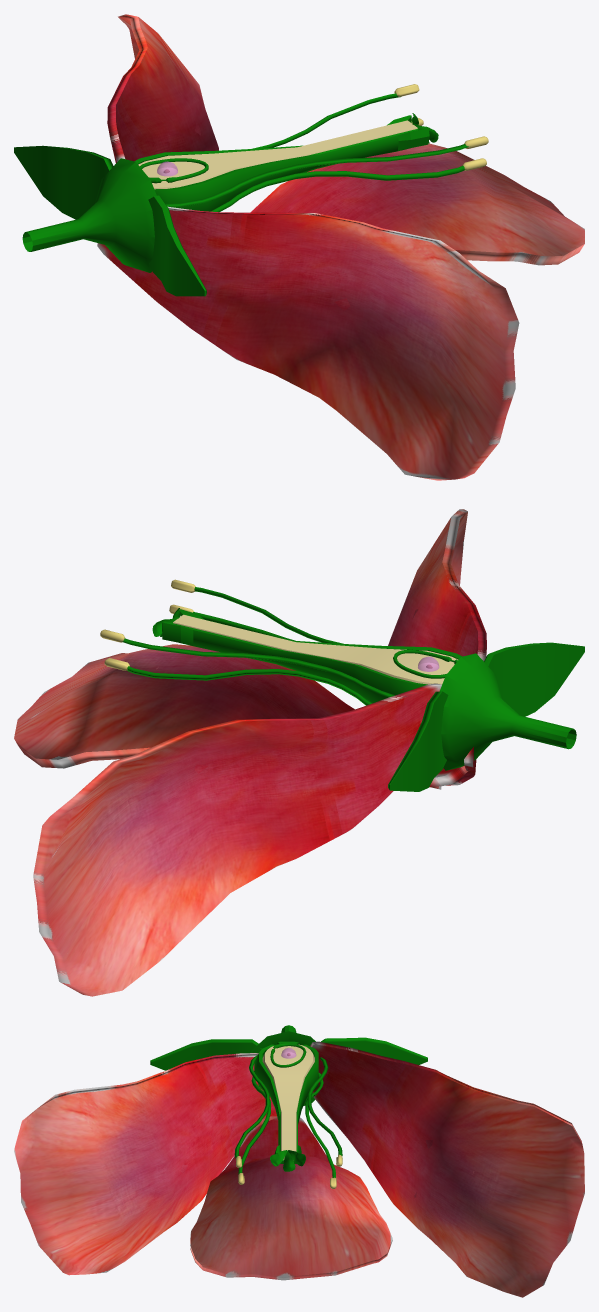
Rendered from flower.fbx.
The picture shows the model from 3 angles, top to bottom: view 1: azimuth 30°, elevation 25°; view 2: azimuth 150°, elevation 25°; view 3: azimuth 270°, elevation 25°; orthographic projection. The views are drawn at different scales.
Visible parts, largest first — view 1: polySurface57, polySurface56, polySurface55, polySurface36, polySurface38, pistil, polySurface43, stamen, polySurface44, polySurface37; view 2: polySurface55, polySurface56, polySurface57, polySurface36, polySurface38, pistil, polySurface44, polySurface43, stamen, polySurface40, polySurface37; view 3: polySurface55, polySurface57, polySurface56, pistil, polySurface44, polySurface38, polySurface43, stamen, polySurface36, polySurface37, polySurface40.
Part boxes in pixels (x1,y1,x2,y2): polySurface57: (97, 206, 519, 480); polySurface56: (250, 143, 584, 265); polySurface55: (107, 14, 218, 162); polySurface36: (22, 158, 156, 272); polySurface38: (134, 115, 429, 211); pistil: (138, 113, 438, 189); polySurface43: (14, 145, 113, 219); stamen: (165, 136, 488, 212); polySurface44: (148, 195, 206, 296); polySurface37: (252, 93, 401, 148); polySurface55: (33, 683, 441, 996); polySurface56: (14, 644, 467, 787); polySurface57: (388, 509, 486, 789); polySurface36: (439, 653, 576, 770); polySurface38: (162, 609, 462, 703); pistil: (152, 608, 458, 684); polySurface44: (484, 642, 584, 716); polySurface43: (388, 691, 448, 791); stamen: (169, 579, 343, 643); polySurface40: (127, 666, 371, 705); polySurface37: (122, 638, 395, 697); polySurface55: (310, 1041, 584, 1297); polySurface57: (14, 1053, 276, 1275); polySurface56: (190, 1116, 392, 1280); pistil: (262, 1044, 314, 1171); polySurface44: (150, 1039, 261, 1070); polySurface38: (254, 1044, 318, 1163); polySurface43: (321, 1037, 427, 1064); stamen: (234, 1055, 270, 1184); polySurface36: (251, 1025, 315, 1105); polySurface37: (307, 1057, 342, 1155); polySurface40: (305, 1073, 335, 1177).
Size of the model in its own units: 48.36 by 23.49 by 63.26.
Materials: 6 (1 with a texture image).
